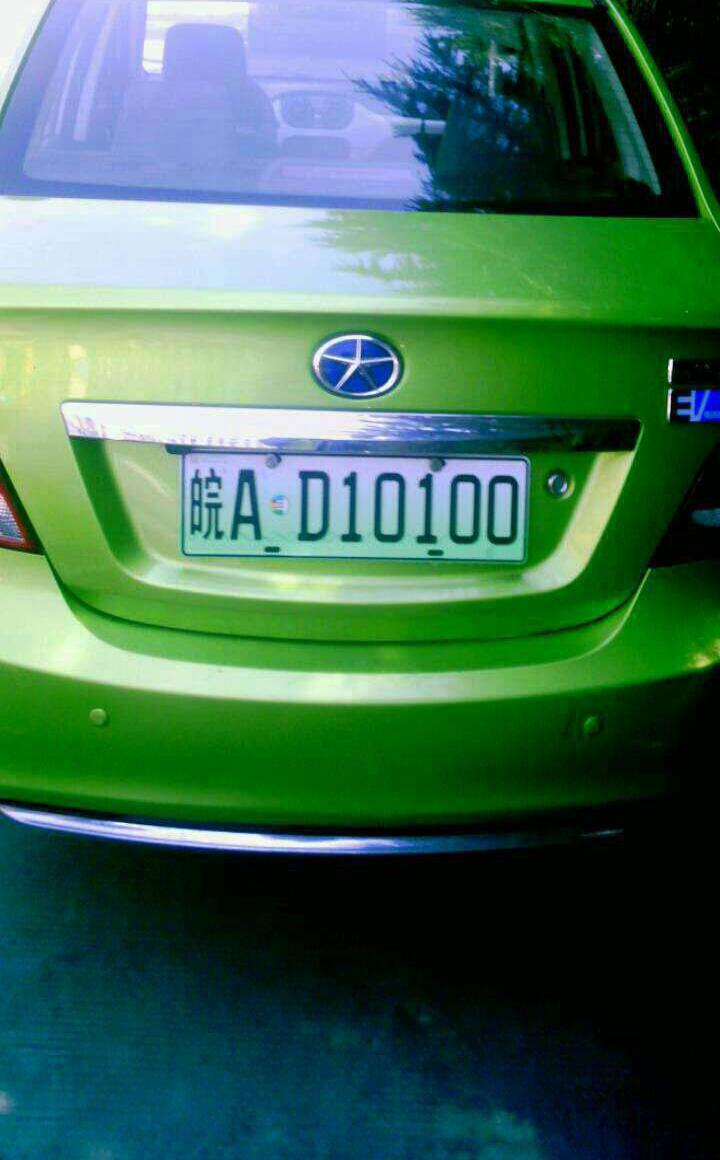car_id: (188, 449, 528, 560)
